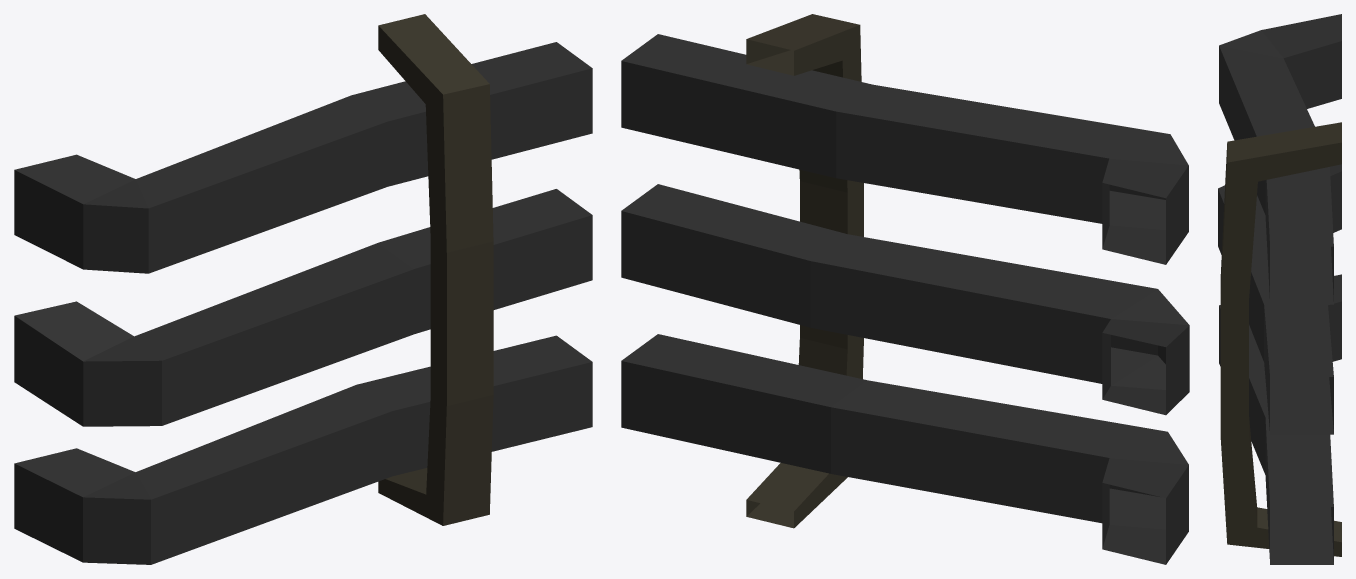
File: SW_ENV_Wires3_TunnelWall_Ends.fbx
The picture shows the model from 3 angles, left to right: view 1: azimuth 30°, elevation 25°; view 2: azimuth 150°, elevation 25°; view 3: azimuth 270°, elevation 25°; orthographic projection. The views are drawn at different scales.
Parts seen in each view (by area): view 1: SW_ENV_Wires3_TunnelWall_Ends; view 2: SW_ENV_Wires3_TunnelWall_Ends; view 3: SW_ENV_Wires3_TunnelWall_Ends.
Boxes of the visible parts, bbox=[...] form: SW_ENV_Wires3_TunnelWall_Ends: bbox=[14, 14, 592, 564]; SW_ENV_Wires3_TunnelWall_Ends: bbox=[621, 14, 1189, 564]; SW_ENV_Wires3_TunnelWall_Ends: bbox=[1218, 14, 1341, 564].
Bounding box in the file's own units: 34.5 × 28.66 × 7.77.
